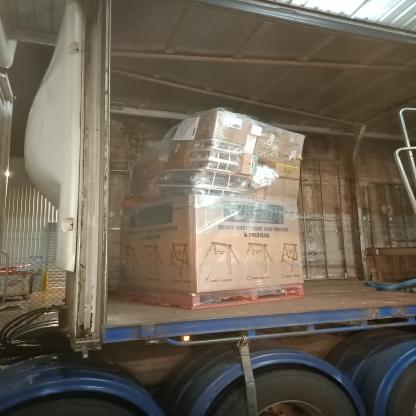label: (175, 112, 199, 139), (219, 114, 244, 133), (250, 121, 261, 138)
package: (116, 193, 317, 296), (157, 105, 254, 145), (274, 124, 311, 166), (258, 168, 312, 194), (146, 149, 191, 173), (257, 123, 274, 162), (241, 152, 254, 182)
